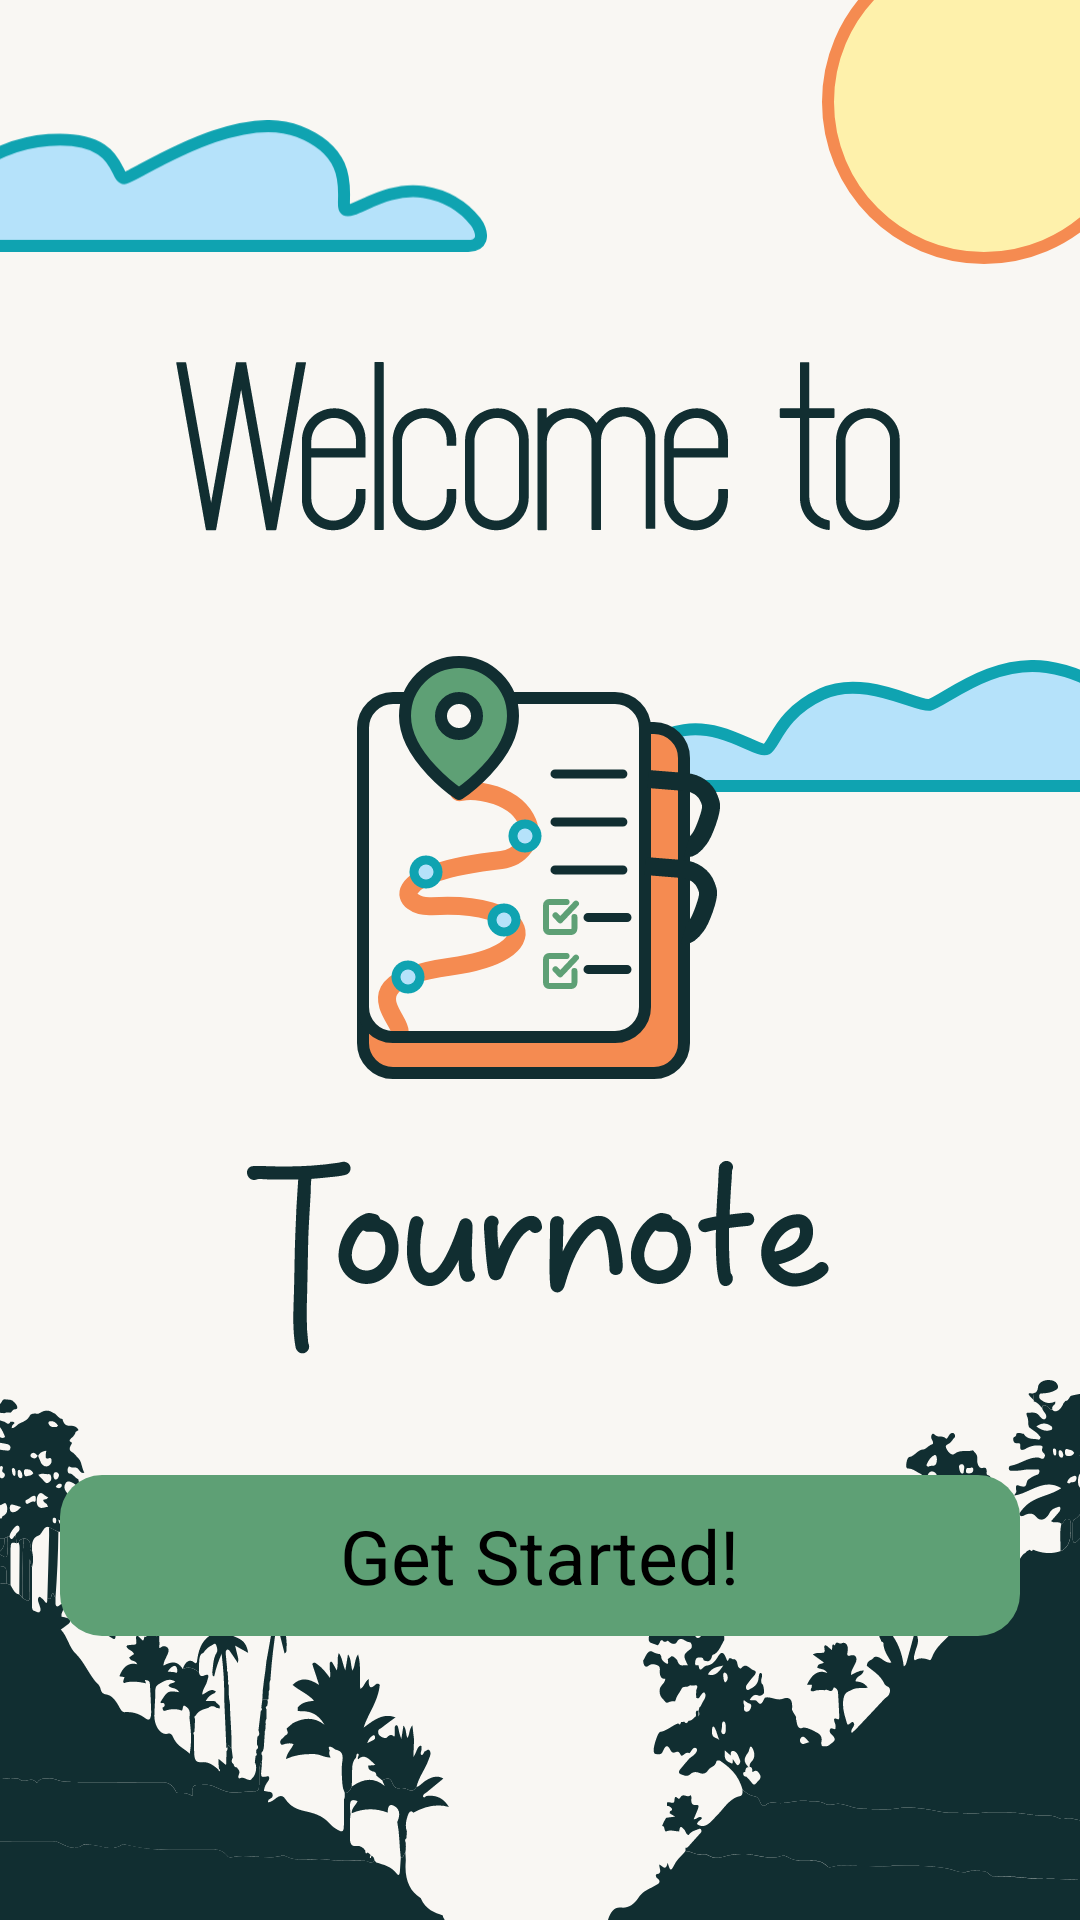

Icons on this 1080*1920 Android screen, each with the point to tap as (x,y):
sun: (951,132)
